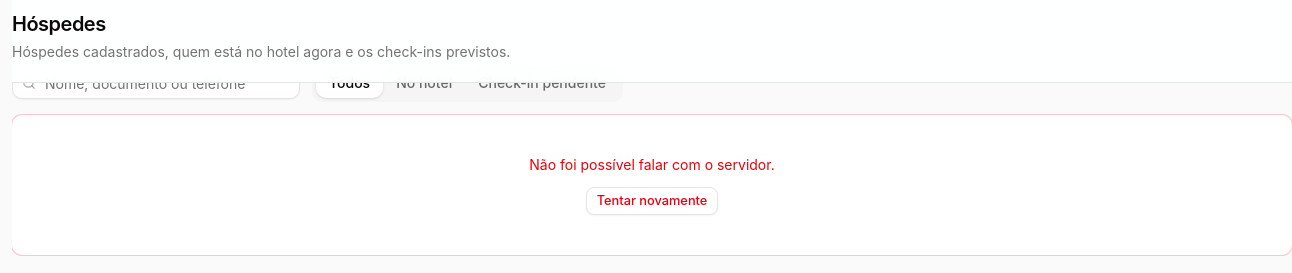
Test: GuestTable · RF3 · RF4 · RF5 › mostra o estado de erro com retry e refaz a leitura ao clicar
This screenshot has width=1292, height=273.
Expected: the message shows "Não foi possível falar com o servidor.", [529, 156, 775, 173]
Click the button "Tentar novamente" at (652, 201), box [586, 187, 718, 215]
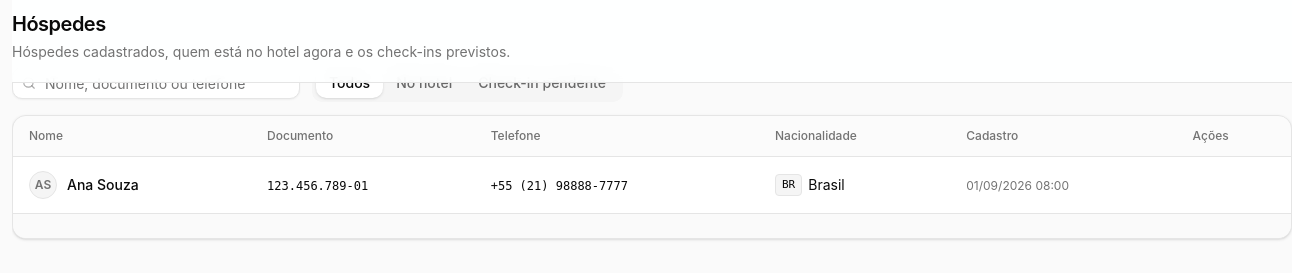
Now the text "Ana Souza" is shown, box [67, 174, 139, 194]
Now the message "Não foi possível falar com o servidor. Tentar novamente" is gone
